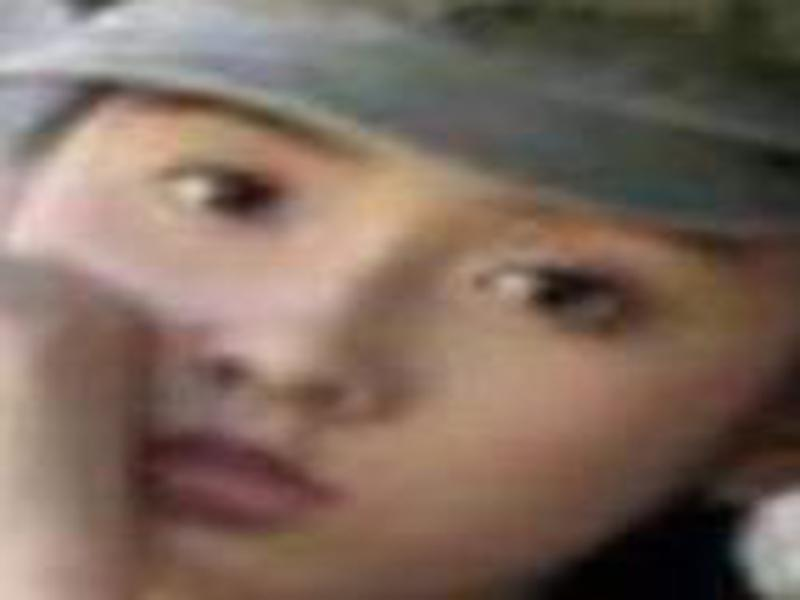without_mask: (17, 91, 734, 585)
